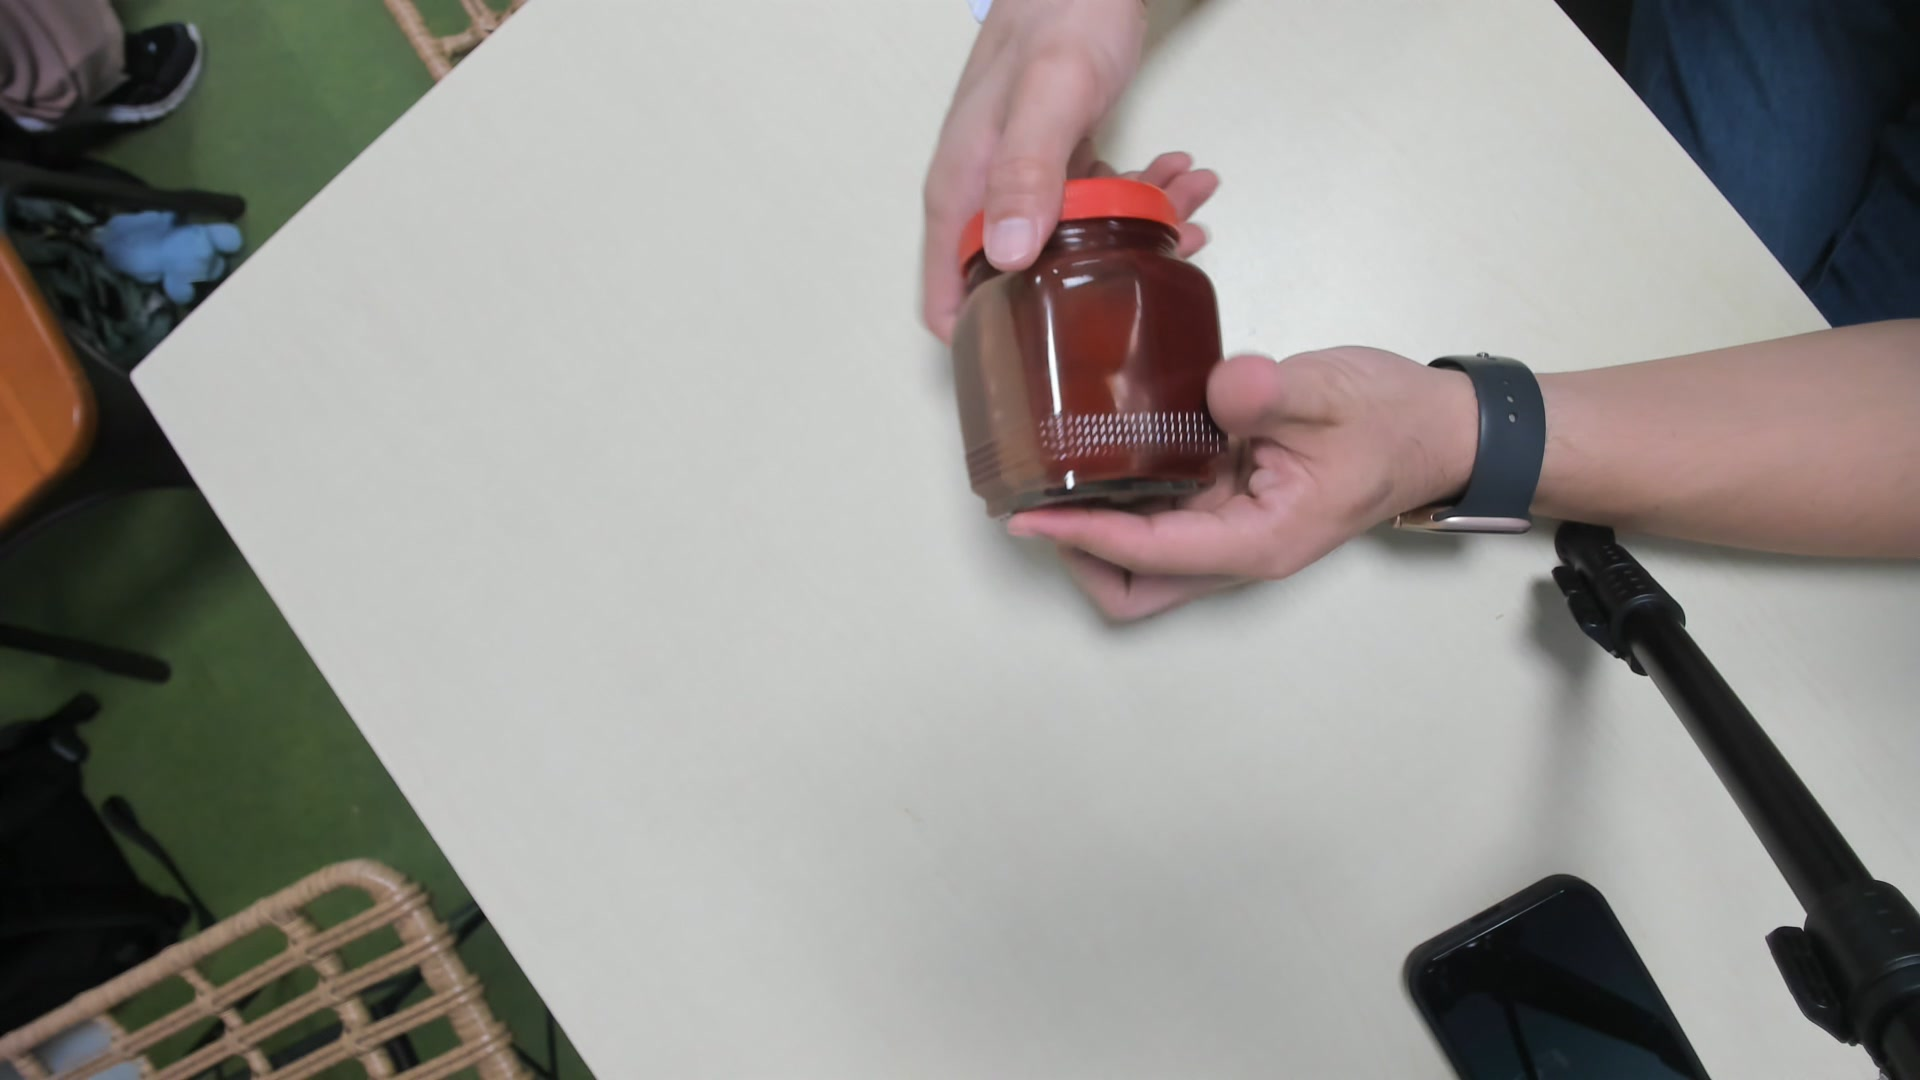OtherSauceDressing_200-299g_NonHalal_NonHealthy: (949, 171, 1222, 525)
